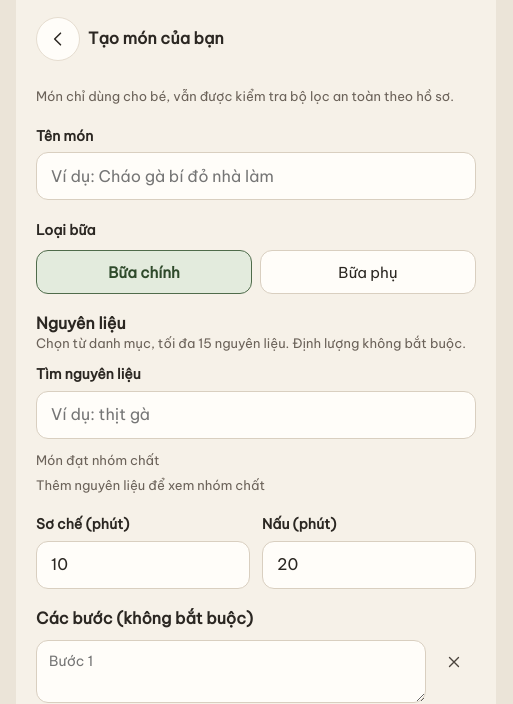
Scenario: Create a dish (G15) › shows other refusals in words (0)
Type "A" into the field labelled "Tên món".
click(256, 176); type("A")  # box [36,152,476,200]
(page scrolled)
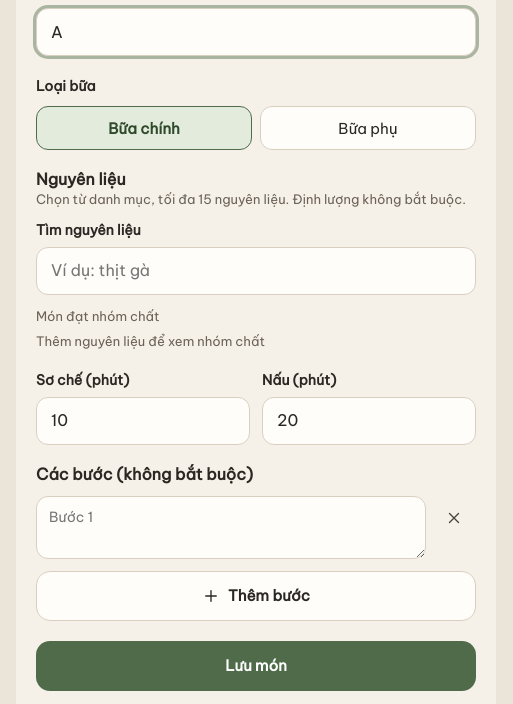
Click the button "Lưu món".
click(256, 666)  # box [36,640,476,690]
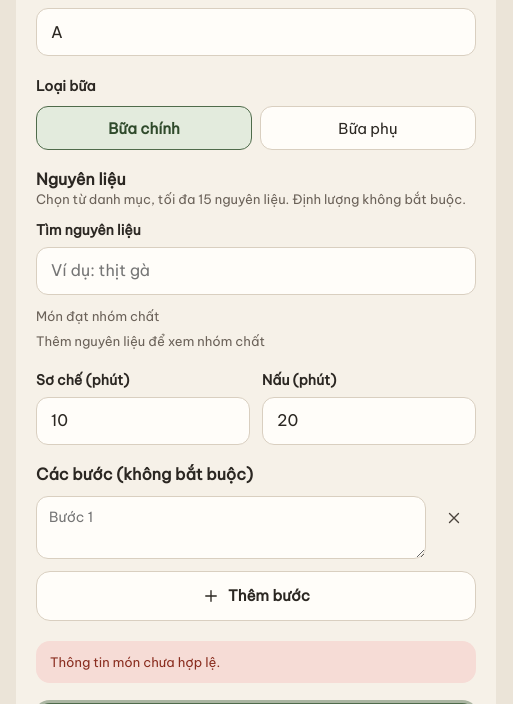
Expected: the text "Thông tin món chưa hợp lệ." is shown, [50,652,220,671]
